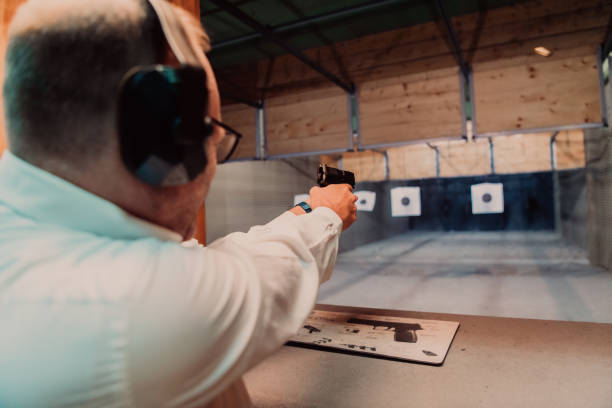gun: (315, 164, 356, 191)
